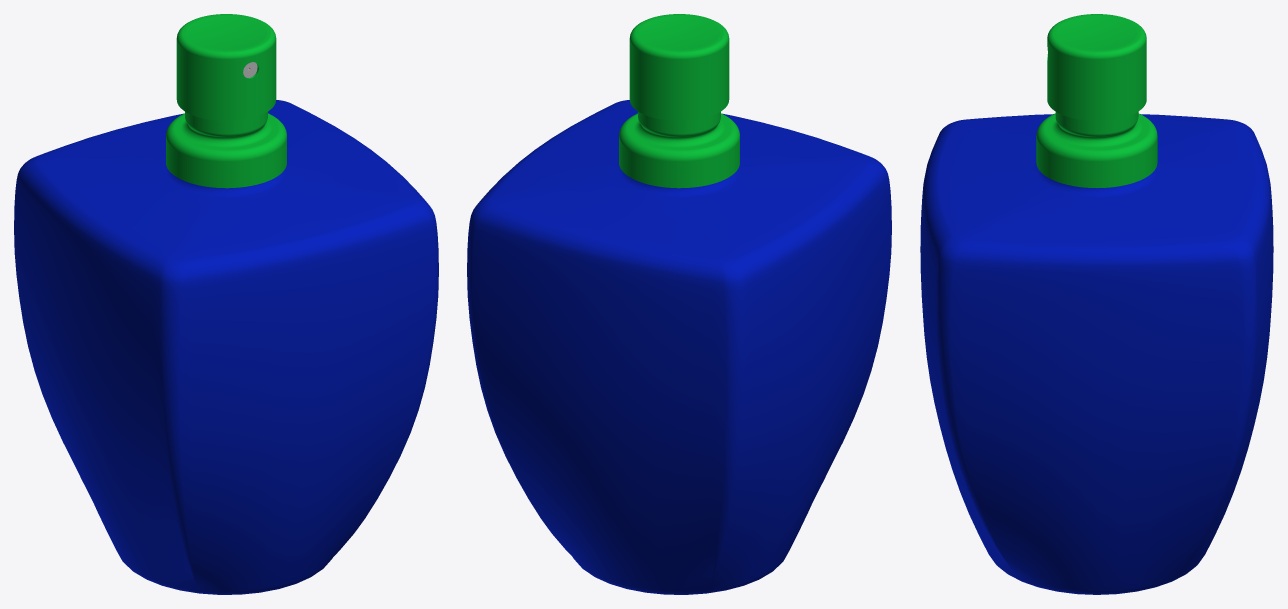
The model's file is pumpWithBottle.glb.
3 renders of one model, left to right at view 1: azimuth 30°, elevation 25°; view 2: azimuth 150°, elevation 25°; view 3: azimuth 270°, elevation 25°, orthographic.
Parts seen in each view (by area): view 1: June_50ml_Bottle, A03L_Actuator_Shell, _31MS_Collar; view 2: June_50ml_Bottle, A03L_Actuator_Shell, _31MS_Collar; view 3: June_50ml_Bottle, A03L_Actuator_Shell, _31MS_Collar.
Boxes of the visible parts, x1,y1,x2,y2 form: June_50ml_Bottle: (14,100,438,594); A03L_Actuator_Shell: (176,14,276,120); _31MS_Collar: (166,111,286,188); June_50ml_Bottle: (467,100,891,594); A03L_Actuator_Shell: (629,14,729,120); _31MS_Collar: (619,111,739,188); June_50ml_Bottle: (920,114,1273,594); A03L_Actuator_Shell: (1047,14,1146,120); _31MS_Collar: (1036,111,1157,187).
Bounding box in the file's own units: 0.4696 × 0.7664 × 0.4727.
